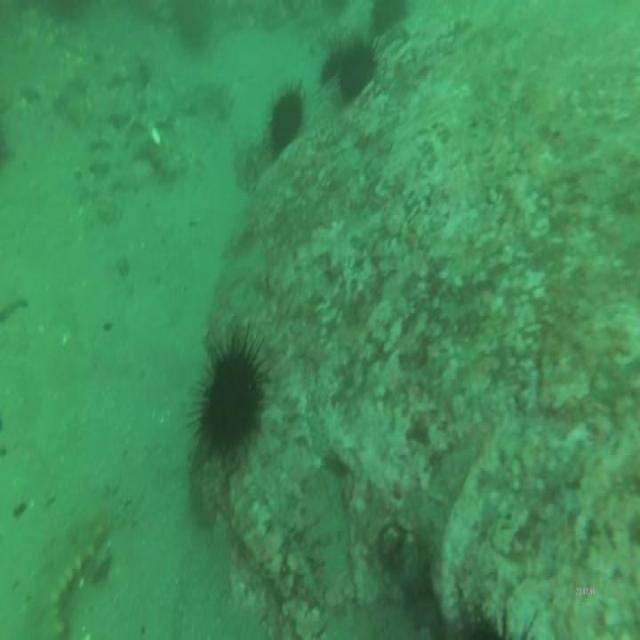echinus: (186, 327, 272, 468), (266, 78, 305, 160), (338, 30, 378, 104), (175, 0, 213, 62), (368, 0, 412, 40), (316, 41, 348, 93)
holothurian: (29, 510, 114, 640), (188, 434, 228, 536), (231, 139, 276, 198)
